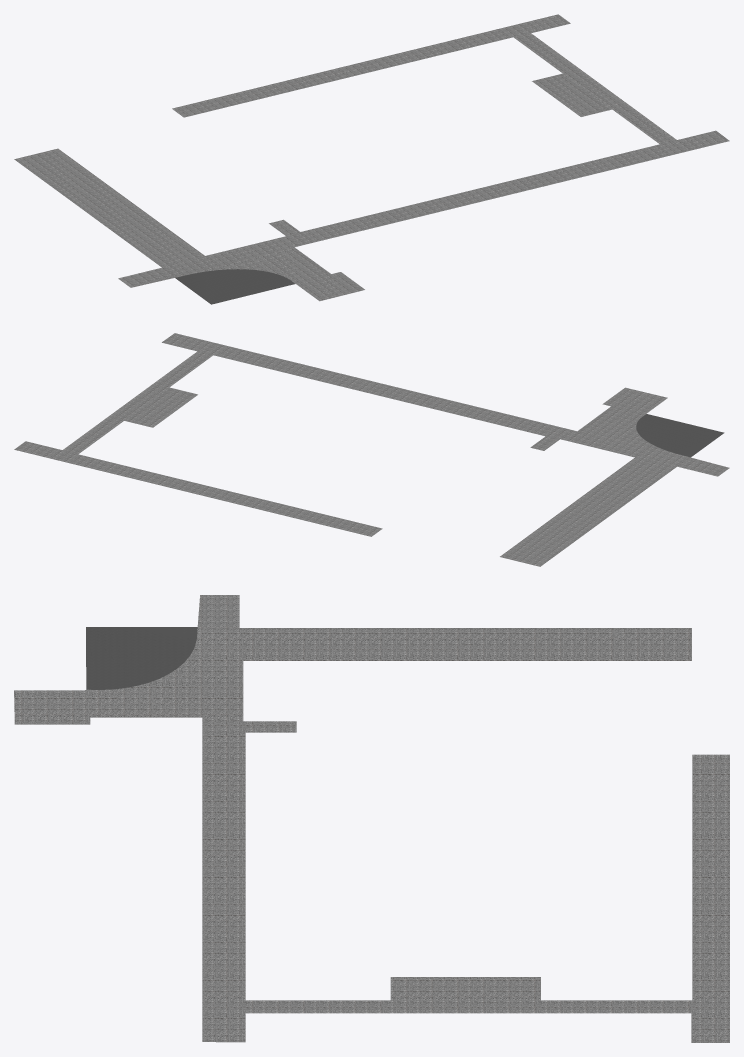
Rendered from SW_corridor__R_lobby_floor_east_ita_001.FBX.
3 views of the same model, one above another, from view 1: azimuth 30°, elevation 25°; view 2: azimuth 150°, elevation 25°; view 3: azimuth 270°, elevation 25° (orthographic). The views are drawn at different scales.
Visible parts, largest first — view 1: SW_corridor__R_lobby_floor_east_ita_001; view 2: SW_corridor__R_lobby_floor_east_ita_001; view 3: SW_corridor__R_lobby_floor_east_ita_001.
Part boxes in pixels (bbox=[...]): SW_corridor__R_lobby_floor_east_ita_001: bbox=[14, 14, 729, 304]; SW_corridor__R_lobby_floor_east_ita_001: bbox=[14, 333, 729, 566]; SW_corridor__R_lobby_floor_east_ita_001: bbox=[14, 595, 729, 1042].
Bounding box in the file's own units: 8438 × 5700 × 1.53.
